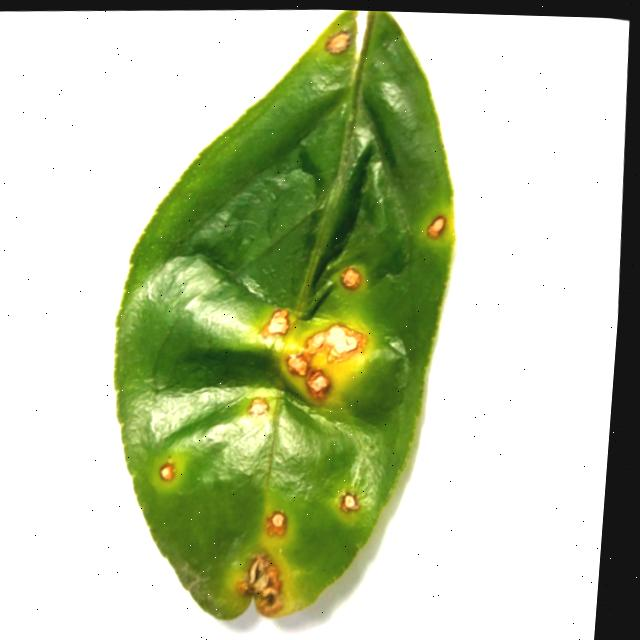antracnose: (113, 10, 453, 620), (286, 324, 365, 374), (236, 554, 280, 616), (260, 308, 288, 337), (305, 369, 329, 397), (324, 30, 349, 53), (265, 511, 285, 535), (340, 267, 360, 289), (425, 216, 444, 238), (339, 492, 358, 512), (246, 398, 267, 415), (157, 461, 174, 480)
